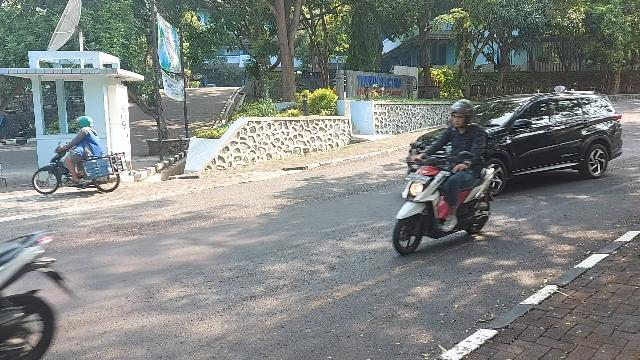helm: (452, 100, 475, 129), (73, 117, 94, 129)
motor: (393, 144, 495, 257), (34, 143, 121, 196)
